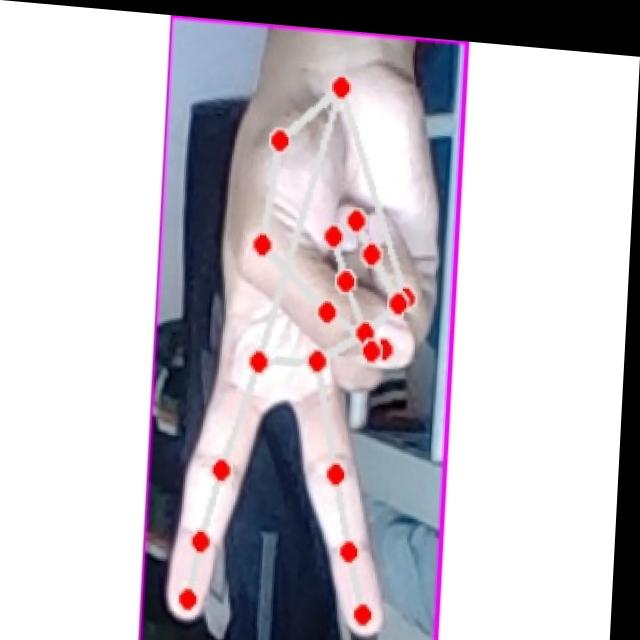V: (171, 43, 450, 640)
